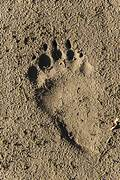bear: (22, 38, 103, 145)
